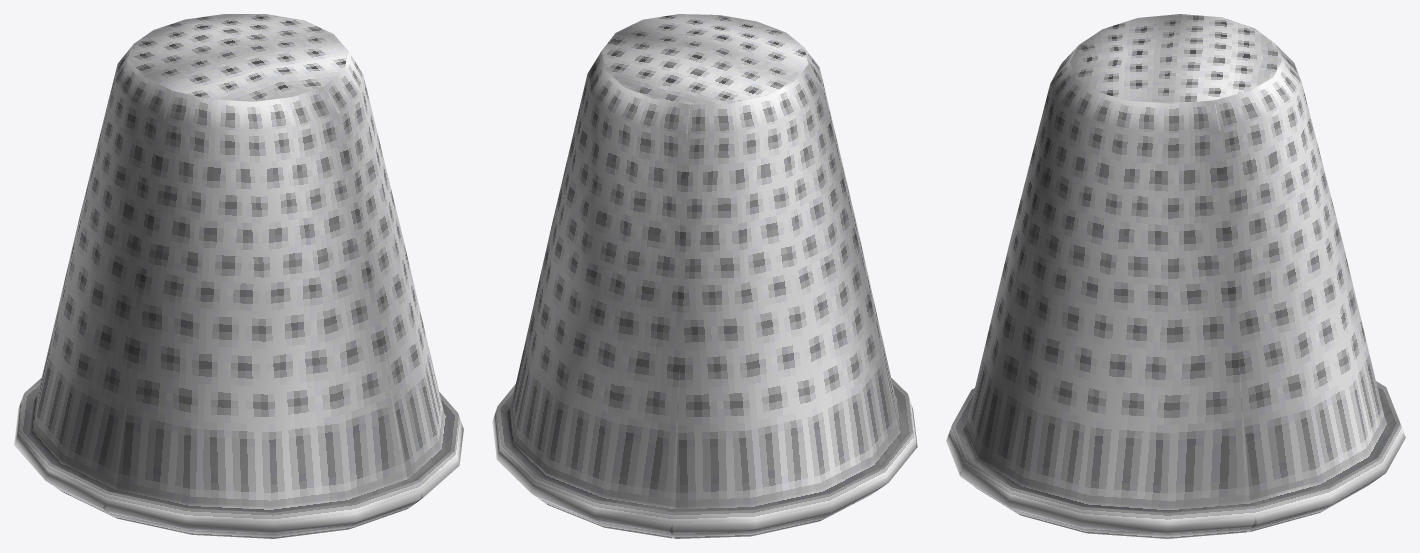
The model's file is 3D_Thimble_anm_Tpose.obj.
3 renders of one model, left to right at view 1: azimuth 30°, elevation 25°; view 2: azimuth 150°, elevation 25°; view 3: azimuth 270°, elevation 25°, orthographic.
Parts seen in each view (by area): view 1: 3D_Thimble_anm_Tpose; view 2: 3D_Thimble_anm_Tpose; view 3: 3D_Thimble_anm_Tpose.
Part boxes in pixels (bbox=[...]): 3D_Thimble_anm_Tpose: bbox=[14, 14, 463, 538]; 3D_Thimble_anm_Tpose: bbox=[492, 14, 917, 538]; 3D_Thimble_anm_Tpose: bbox=[946, 14, 1405, 538].
Size of the model in its own units: 2.31 by 2.36 by 2.43.
1 material, 1 textured.
